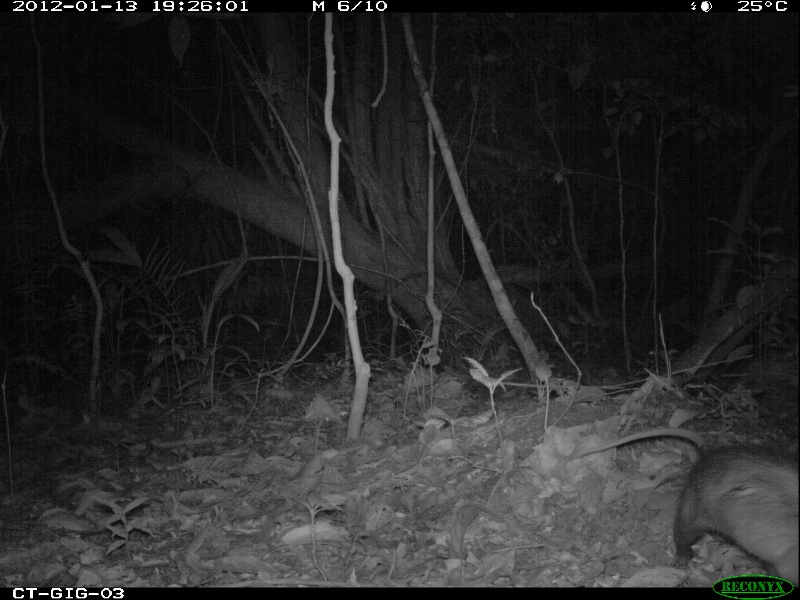opossum: (569, 430, 800, 579)
